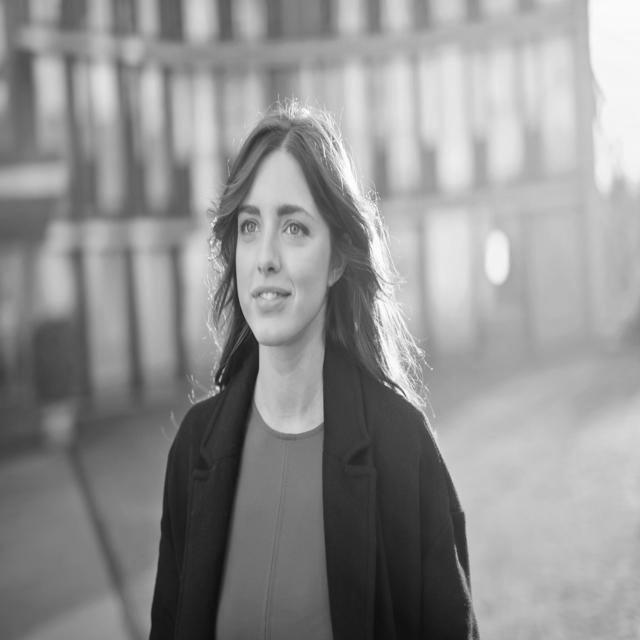Happiness: (228, 145, 340, 350)
